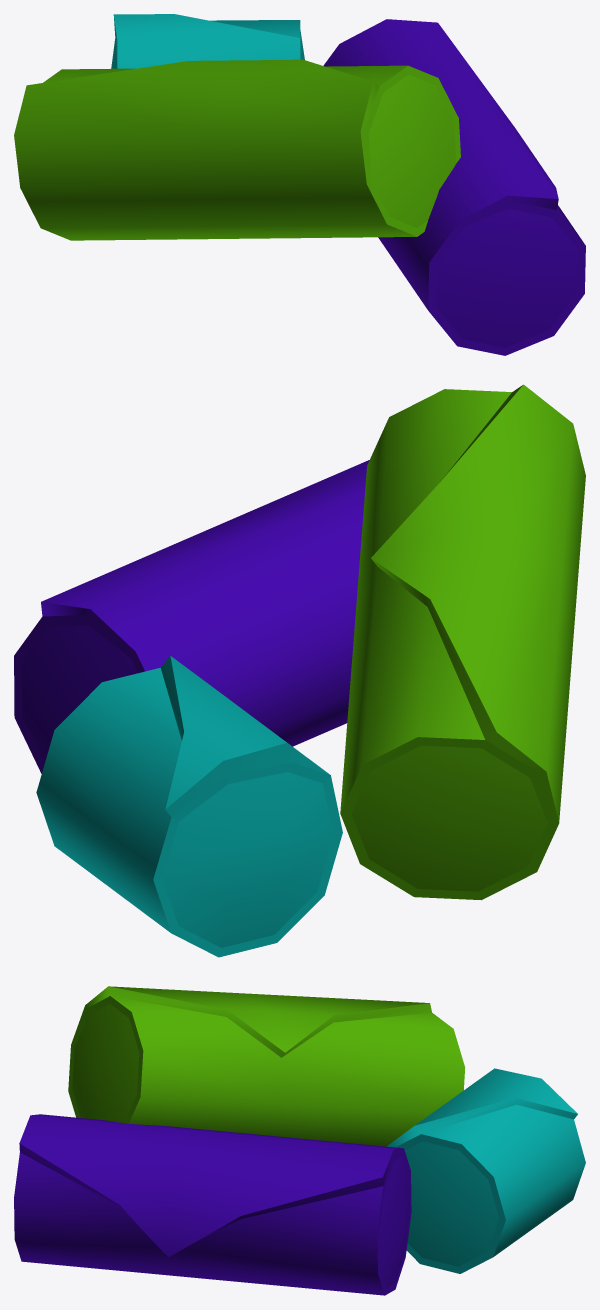
Rendered from good_dish.fbx.
3 renders of one model, top to bottom at view 1: azimuth 30°, elevation 25°; view 2: azimuth 150°, elevation 25°; view 3: azimuth 270°, elevation 25°, orthographic. The views are drawn at different scales.
Parts seen in each view (by area): view 1: good_dish; view 2: good_dish; view 3: good_dish.
Boxes of the visible parts, x1,y1,x2,y2 form: good_dish: [14, 14, 585, 355]; good_dish: [14, 384, 585, 957]; good_dish: [14, 986, 585, 1295].
Bounding box in the file's own units: 8.72 × 5.09 × 11.3.
